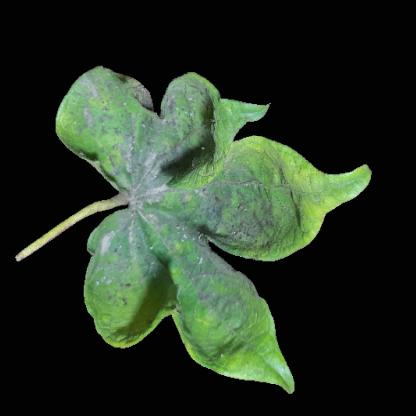curl_stage1: (294, 177, 332, 223), (244, 334, 276, 386), (211, 344, 247, 377), (101, 307, 136, 339), (329, 171, 363, 203), (192, 305, 218, 335), (284, 155, 307, 187)
sooty: (124, 176, 270, 246), (121, 106, 201, 186), (68, 79, 124, 161), (88, 244, 156, 288), (168, 242, 212, 287), (211, 278, 251, 322)
